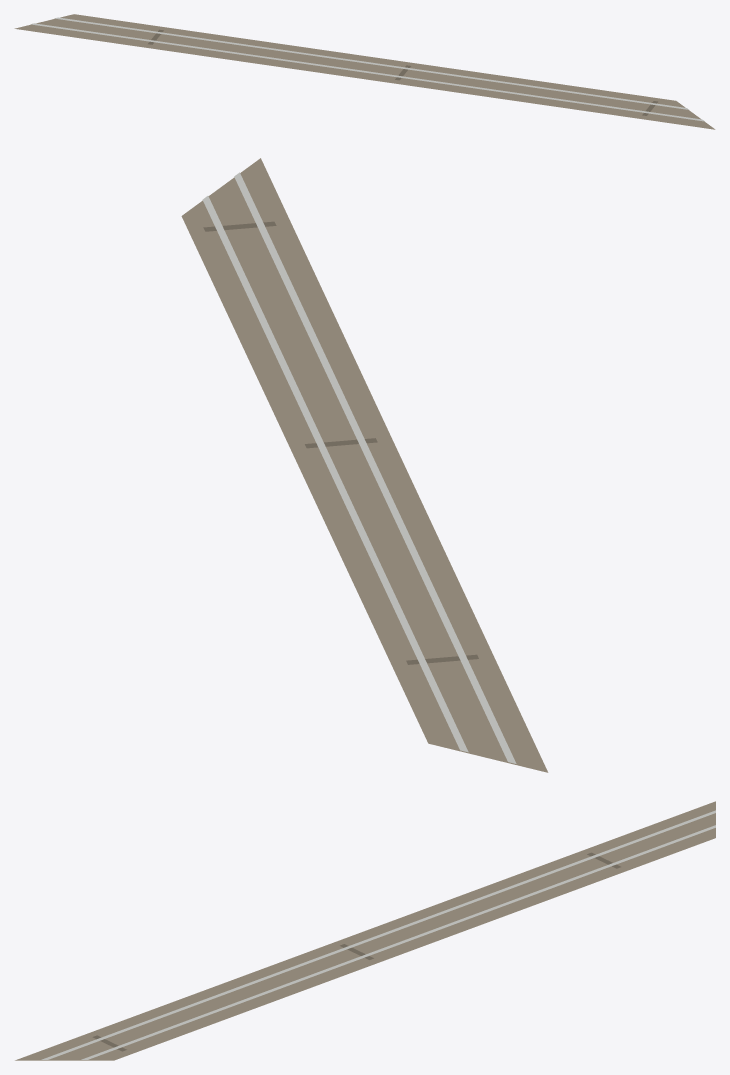
The picture shows the model from 3 angles, top to bottom: view 1: azimuth 30°, elevation 25°; view 2: azimuth 150°, elevation 25°; view 3: azimuth 270°, elevation 25°; orthographic projection. The views are drawn at different scales.
Parts seen in each view (by area): view 1: rail; view 2: rail; view 3: rail.
Boxes of the visible parts, x1,y1,x2,y2 form: rail: (14, 14, 715, 129); rail: (181, 158, 548, 772); rail: (15, 801, 715, 1060).
Bounding box in the file's own units: 33.66 × 0.04 × 38.47.
